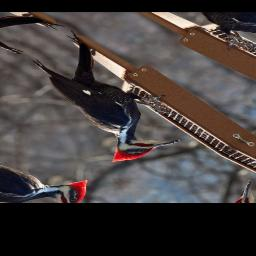Woodpecker: (0, 30, 220, 175)
